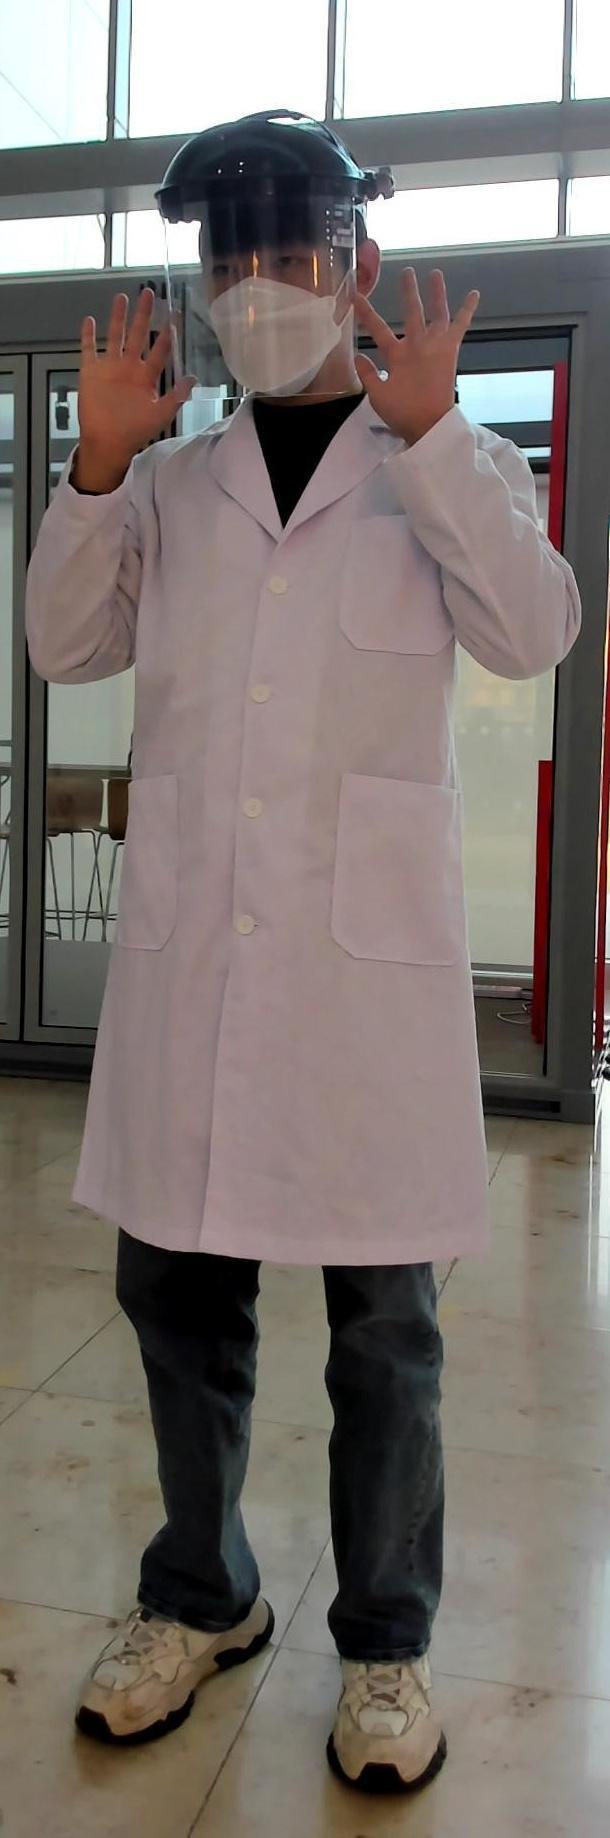lab_coat: (45, 464, 569, 1227)
